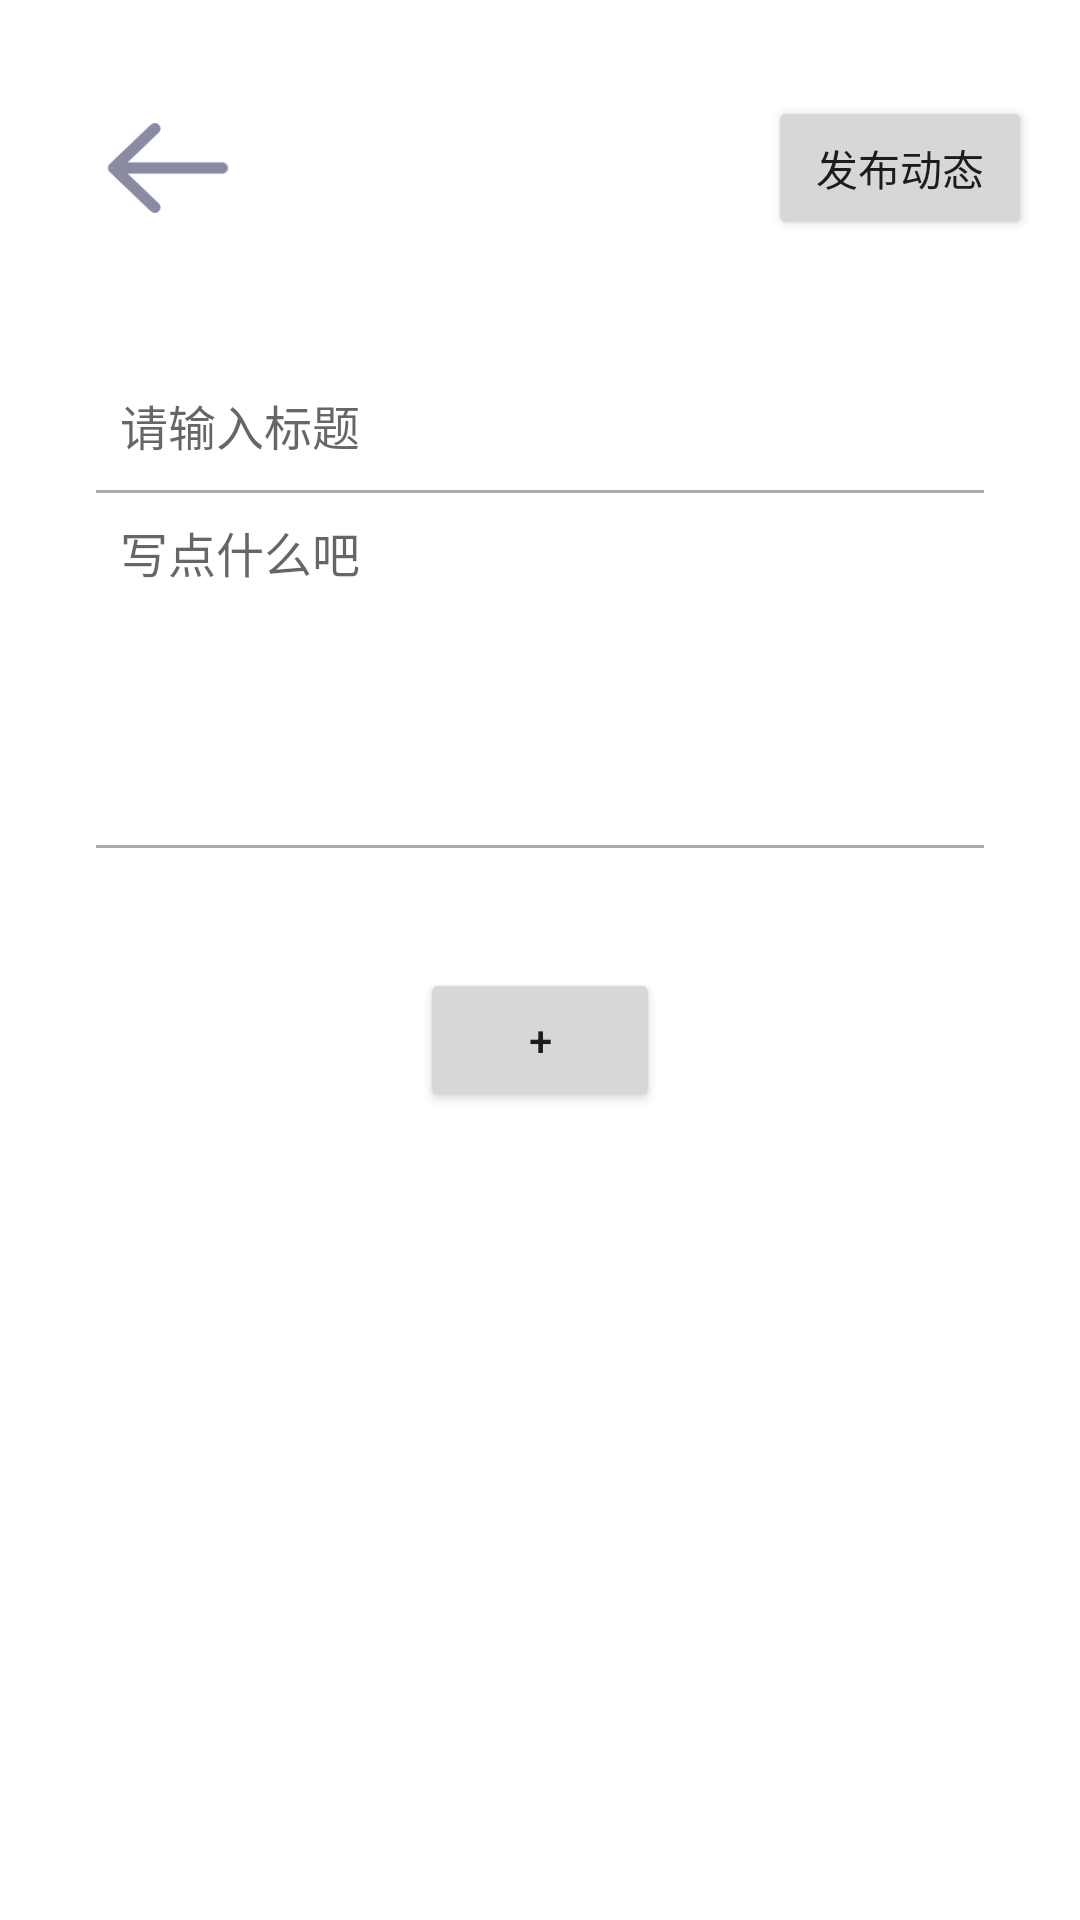

Screen size 1080x1920. Icon name, then its center in pixels as [x,y]:
返回: [168,168]
